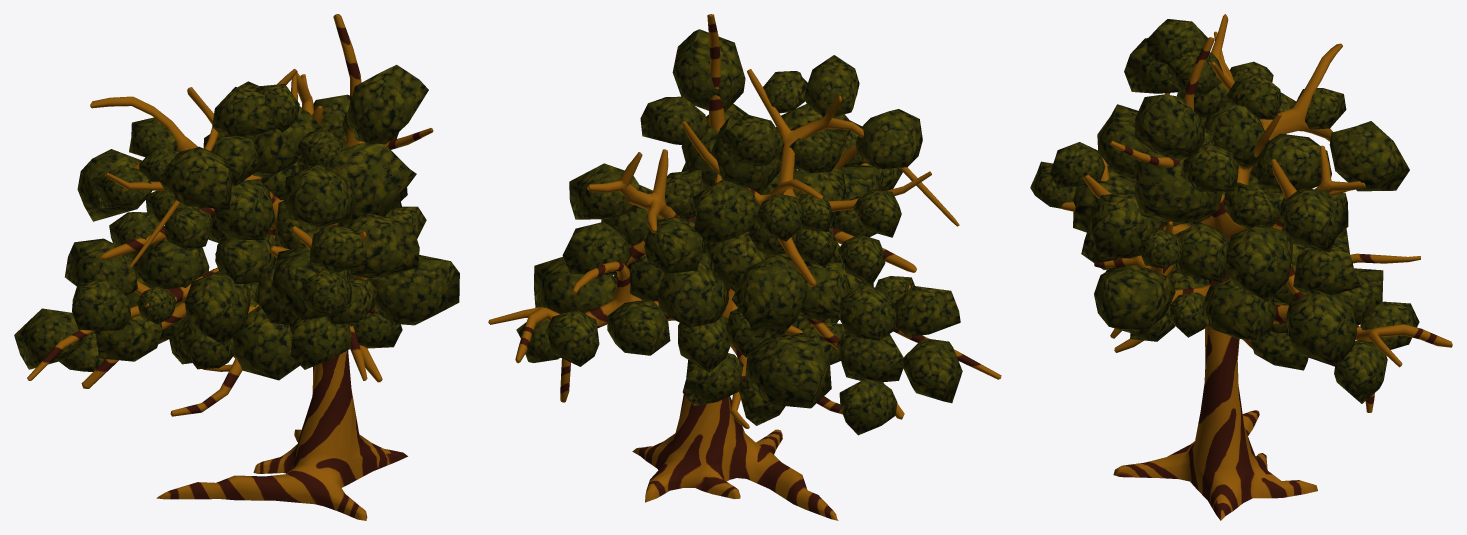
Rendered from tunnel_tree_E_1.fbx.
The picture shows the model from 3 angles, left to right: view 1: azimuth 30°, elevation 25°; view 2: azimuth 150°, elevation 25°; view 3: azimuth 270°, elevation 25°; orthographic projection. The views are drawn at different scales.
Parts seen in each view (by area): view 1: tunnel_Tree_E_leaf_1, tunnel_Tree_E_trunk_E_1; view 2: tunnel_Tree_E_leaf_1, tunnel_Tree_E_trunk_E_1; view 3: tunnel_Tree_E_leaf_1, tunnel_Tree_E_trunk_E_1.
Boxes of the visible parts, bbox=[...] form: tunnel_Tree_E_leaf_1: bbox=[14, 64, 459, 380]; tunnel_Tree_E_trunk_E_1: bbox=[27, 14, 433, 520]; tunnel_Tree_E_leaf_1: bbox=[516, 29, 962, 435]; tunnel_Tree_E_trunk_E_1: bbox=[488, 14, 1001, 520]; tunnel_Tree_E_leaf_1: bbox=[1030, 19, 1419, 403]; tunnel_Tree_E_trunk_E_1: bbox=[1061, 14, 1452, 520].
Size of the model in its own units: 1374 by 1401 by 1199.
